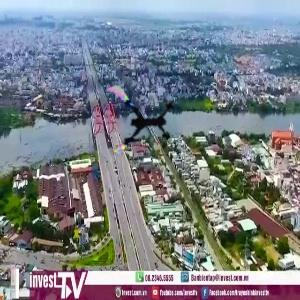drone: (100, 84, 180, 164)
